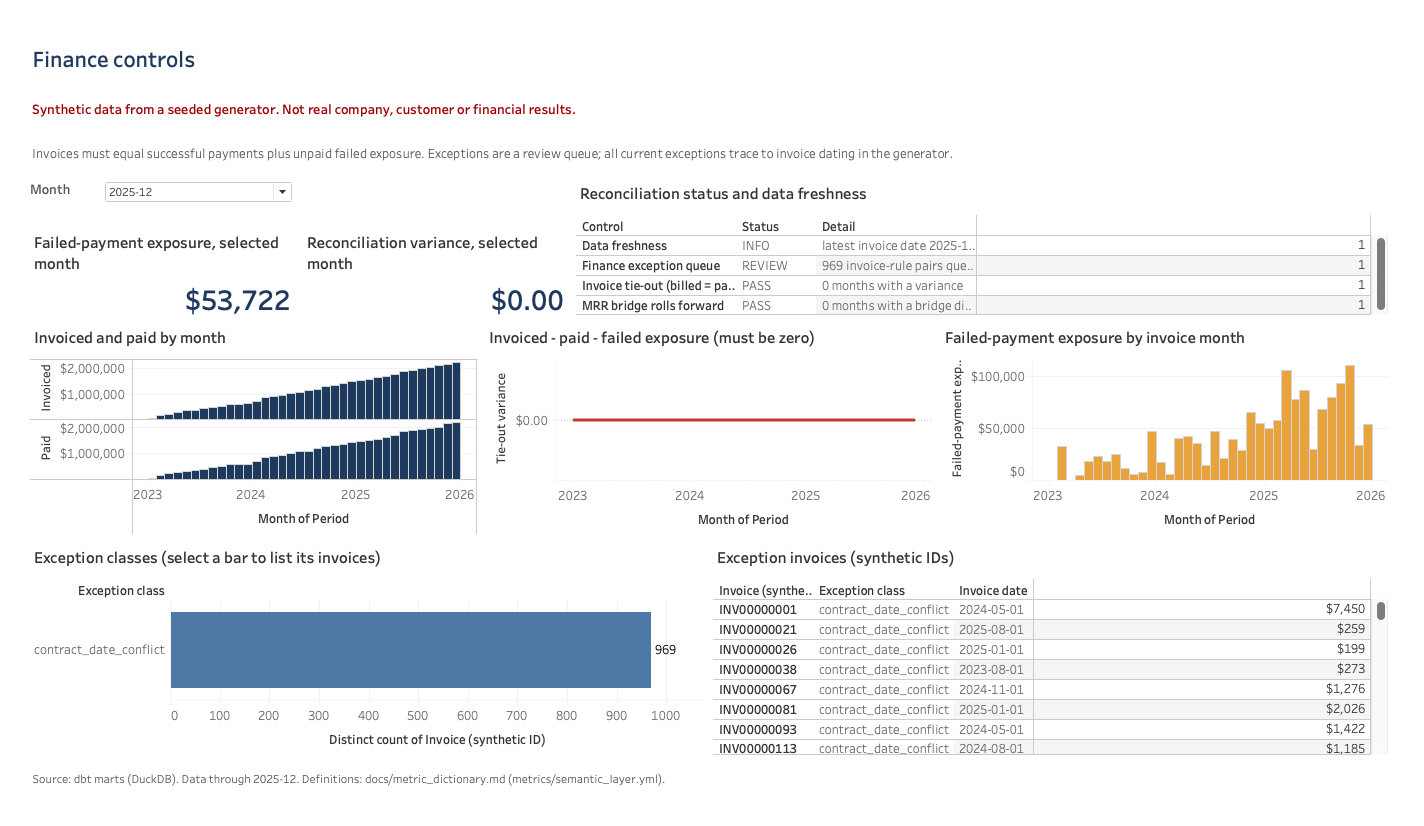

What the dashboard file says about the page in this screenshot:
{"tool":"tableau","page":{"name":"Finance controls","canvas":[1366,768],"ordinal":3},"visuals":[{"type":"text","box":[0,0,1366,72]},{"type":"text","box":[0,72,1366,36]},{"type":"text","box":[0,108,1366,36]},{"type":"parameter","param":"[Parameters].[month_param]","box":[0,144,273.2,41.1]},{"type":"text","box":[273.2,144,273.2,41.1]},{"type":"worksheet","title":"Control status","mark":"Text","rows":["check","status","detail"],"box":[546.4,144,819.6,144]},{"type":"worksheet","title":"KPI Failed-payment exposure","mark":"Text","box":[0,185.1,273.2,102.9]},{"type":"worksheet","title":"KPI Reconciliation variance","mark":"Text","box":[273.2,185.1,273.2,102.9]},{"type":"worksheet","title":"Billing tie-out","mark":"Bar","rows":["invoiced","paid"],"cols":["month_start"],"box":[0,288,455.3,224]},{"type":"worksheet","title":"Tie-out variance","mark":"Line","rows":["variance"],"cols":["month_start"],"box":[455.3,288,455.3,224]},{"type":"worksheet","title":"Failed-payment exposure trend","mark":"Bar","rows":["failed_payment_exposure"],"cols":["month_start"],"box":[910.7,288,455.3,224]},{"type":"worksheet","title":"Exception classes","mark":"Bar","rows":["exception_type"],"cols":["invoice_id"],"box":[0,512,683,224]},{"type":"worksheet","title":"Exception rows","mark":"Text","rows":["invoice_id","exception_type","invoice_date"],"box":[683,512,683,224]},{"type":"text","box":[0,736,1366,32]}]}

Visuals, with their boxes on the page's 1366x768 design canvas (x1, y1, x2, y2). These are canvas units, not pixel positions in the 1424x826 screenshot, which may show the page scaled, cropped or inside an application window:
text: BBox(0, 0, 1366, 72)
text: BBox(0, 72, 1366, 108)
text: BBox(0, 108, 1366, 144)
parameter: BBox(0, 144, 273, 185)
text: BBox(273, 144, 546, 185)
"Control status" worksheet (Text marks): BBox(546, 144, 1366, 288)
"KPI Failed-payment exposure" worksheet (Text marks): BBox(0, 185, 273, 288)
"KPI Reconciliation variance" worksheet (Text marks): BBox(273, 185, 546, 288)
"Billing tie-out" worksheet (Bar marks): BBox(0, 288, 455, 512)
"Tie-out variance" worksheet (Line marks): BBox(455, 288, 911, 512)
"Failed-payment exposure trend" worksheet (Bar marks): BBox(911, 288, 1366, 512)
"Exception classes" worksheet (Bar marks): BBox(0, 512, 683, 736)
"Exception rows" worksheet (Text marks): BBox(683, 512, 1366, 736)
text: BBox(0, 736, 1366, 768)
